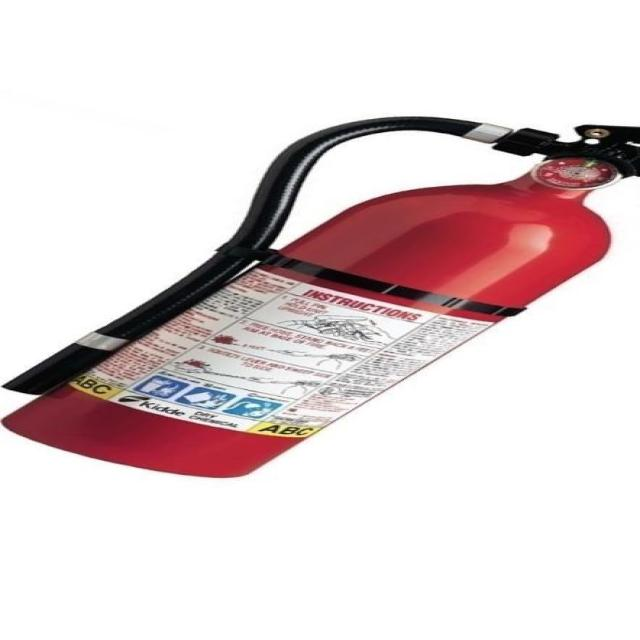fire_extinguisher: (0, 112, 639, 485)
